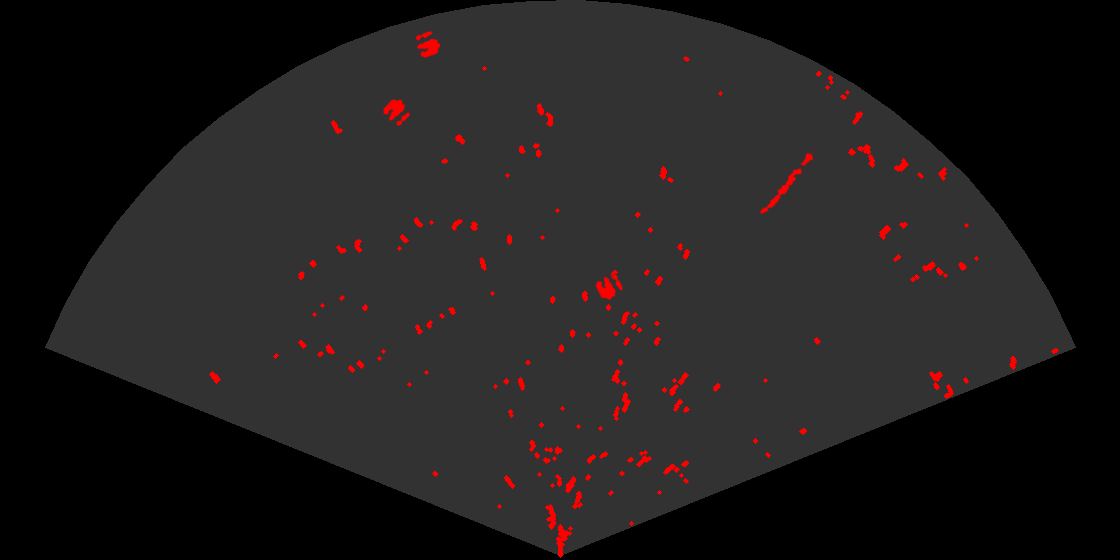ball: (381, 98, 412, 127), (594, 273, 624, 302), (414, 30, 442, 59)
chain: (758, 147, 820, 216)
